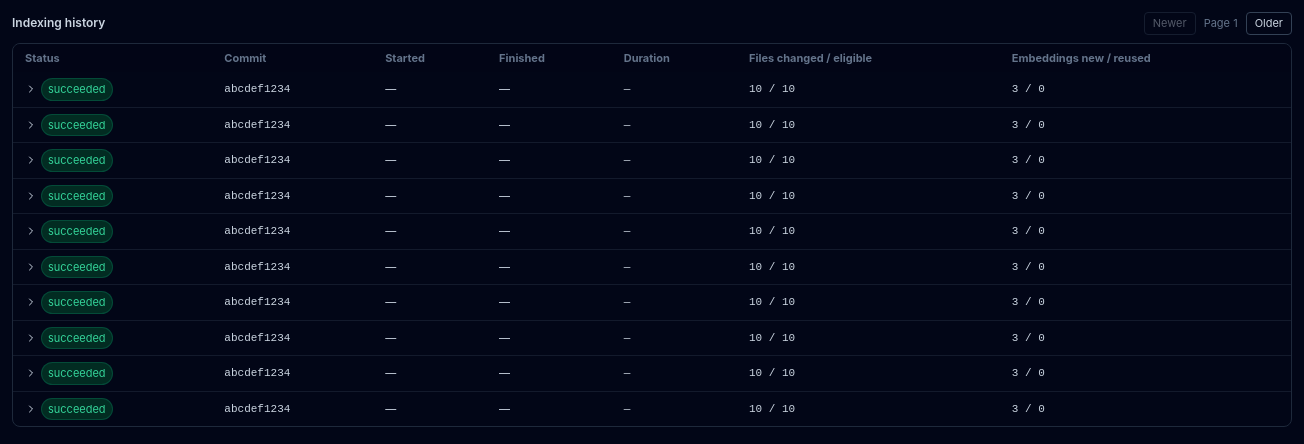
Test: JobHistory › pages through older runs
This screenshot has width=1304, height=444.
Click the button "Older". click: coordinates (1269, 23)
box: [1246,12,1292,34]
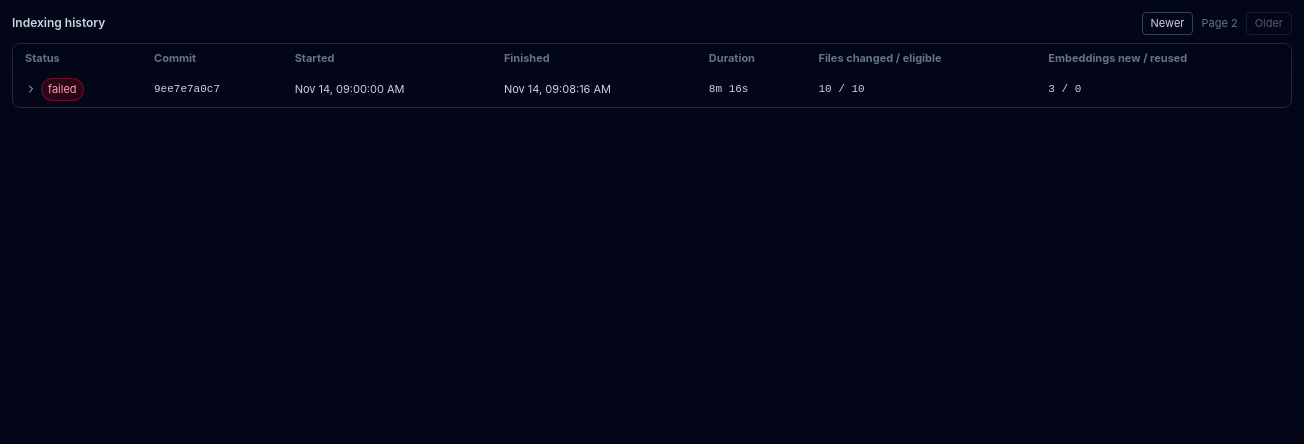
Result: the text "Page 2" is shown at [1201,15,1238,32]
Result: the button "Older" is disabled at [1246,12,1292,34]
